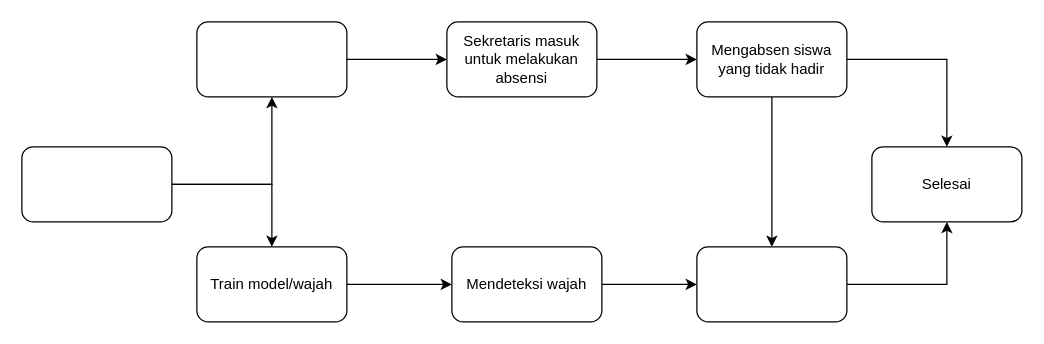
The diagram is 1044 pixels wide and 344 high, and some of its shapes have lost their labels. The box of each missing label's shape, as (x1, y1, x2, y2) in pixels:
Absensi: (196, 21, 347, 97)
Riwayat presensi: (696, 246, 847, 322)
User: (21, 146, 172, 222)
